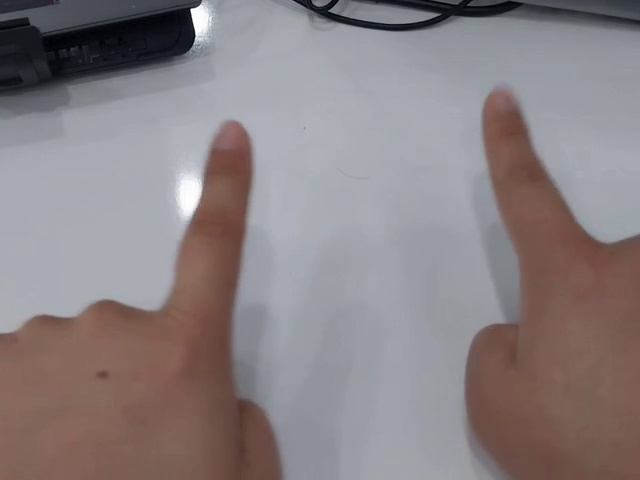fingers: (205, 117, 254, 175), (481, 88, 530, 141)
